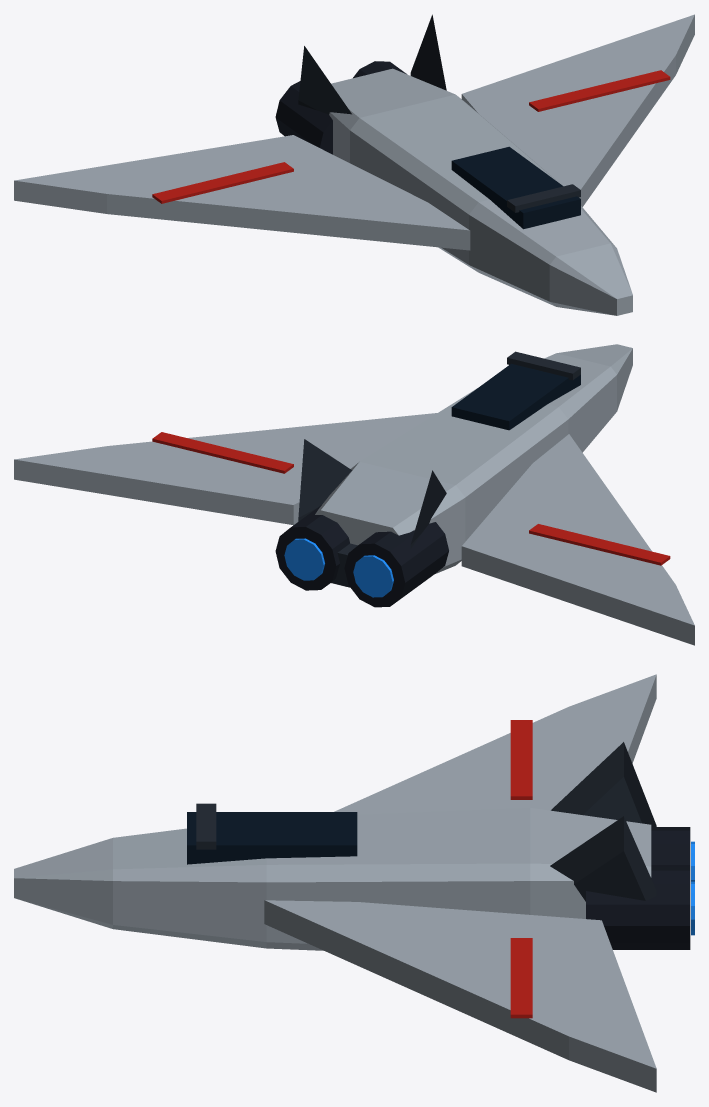
Rendered from spaceship.obj.
3 views of the same model, one above another, from view 1: azimuth 30°, elevation 25°; view 2: azimuth 150°, elevation 25°; view 3: azimuth 270°, elevation 25° (orthographic). The views are drawn at different scales.
Parts seen in each view (by area): view 1: Main_Hull, Left_Wing, Right_Wing, Cockpit_Canopy, Left_Engine, Left_Tail_Fin, Right_Wing_Accent, Left_Wing_Accent, Right_Tail_Fin, Canopy_Frame; view 2: Main_Hull, Left_Wing, Right_Wing, Cockpit_Canopy, Left_Engine, Right_Engine, Right_Tail_Fin, Right_Wing_Accent, Left_Wing_Accent, Left_Engine_Glow, Right_Engine_Glow, Canopy_Frame (+1 smaller); view 3: Main_Hull, Right_Wing, Left_Wing, Cockpit_Canopy, Right_Engine, Right_Tail_Fin, Left_Tail_Fin, Right_Wing_Accent, Left_Wing_Accent, Left_Engine, Canopy_Frame.
Boxes of the visible parts, x1,y1,x2,y2 form: Main_Hull: (329,68,632,315); Left_Wing: (14,135,470,250); Right_Wing: (461,14,694,206); Cockpit_Canopy: (451,146,580,229); Left_Engine: (275,81,332,154); Left_Tail_Fin: (298,46,351,114); Right_Wing_Accent: (529,70,670,111); Left_Wing_Accent: (152,162,293,203); Right_Tail_Fin: (410,14,446,90); Canopy_Frame: (507,184,580,212); Main_Hull: (315,344,632,573); Left_Wing: (461,434,694,645); Right_Wing: (14,413,436,525); Cockpit_Canopy: (451,363,580,430); Left_Engine: (344,522,448,607); Right_Engine: (275,505,349,590); Right_Tail_Fin: (298,439,351,521); Right_Wing_Accent: (152,432,293,473); Left_Wing_Accent: (529,524,670,565); Left_Engine_Glow: (353,555,393,597); Right_Engine_Glow: (284,538,324,580); Canopy_Frame: (507,351,580,380); Main_Hull: (14,808,651,950); Right_Wing: (264,900,656,1092); Left_Wing: (334,674,656,814); Cockpit_Canopy: (187,812,357,864); Right_Engine: (586,867,690,949); Right_Tail_Fin: (550,816,656,901); Left_Tail_Fin: (551,742,656,826); Right_Wing_Accent: (510,938,532,1018); Left_Wing_Accent: (510,720,532,799); Left_Engine: (651,827,690,866); Canopy_Frame: (196,803,216,849).
Size of the model in its own units: 8.5 by 1.53 by 6.2.
